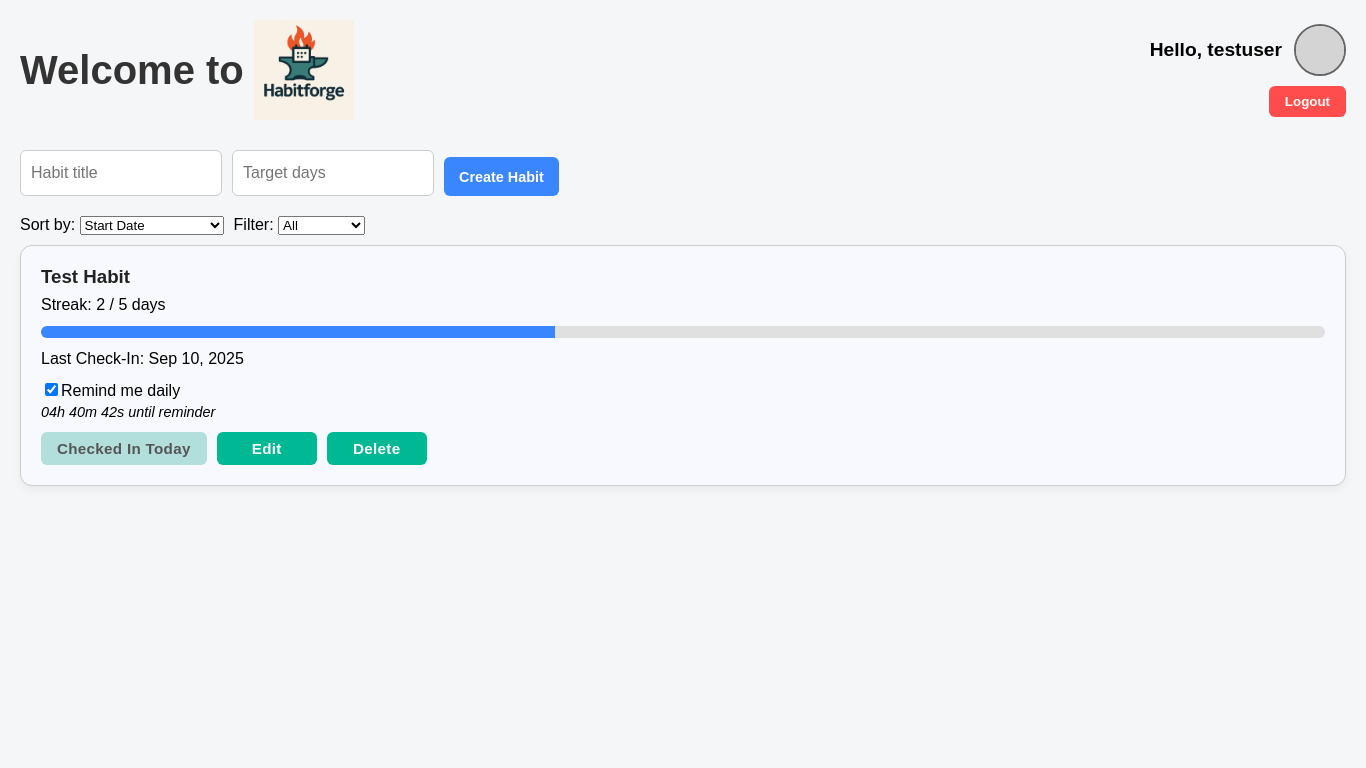
Test: Dashboard Component › opens and closes delete modal
Click the button "Delete".
click(377, 448)  # box 327,432 -> 427,465
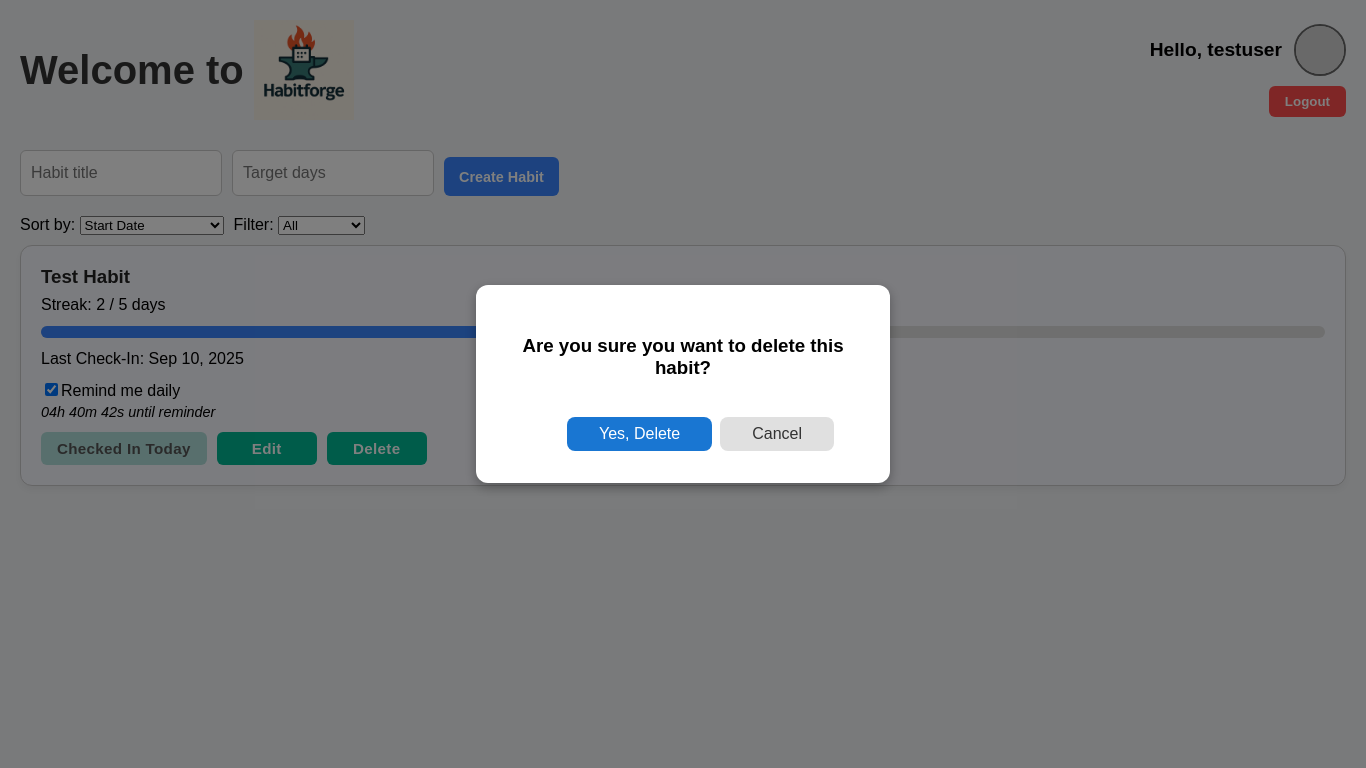
Expected: the heading "Are you sure you want to delete this habit?" is shown, 508,335 -> 858,379
Click the button "Cancel".
click(777, 434)  # box 720,417 -> 834,451
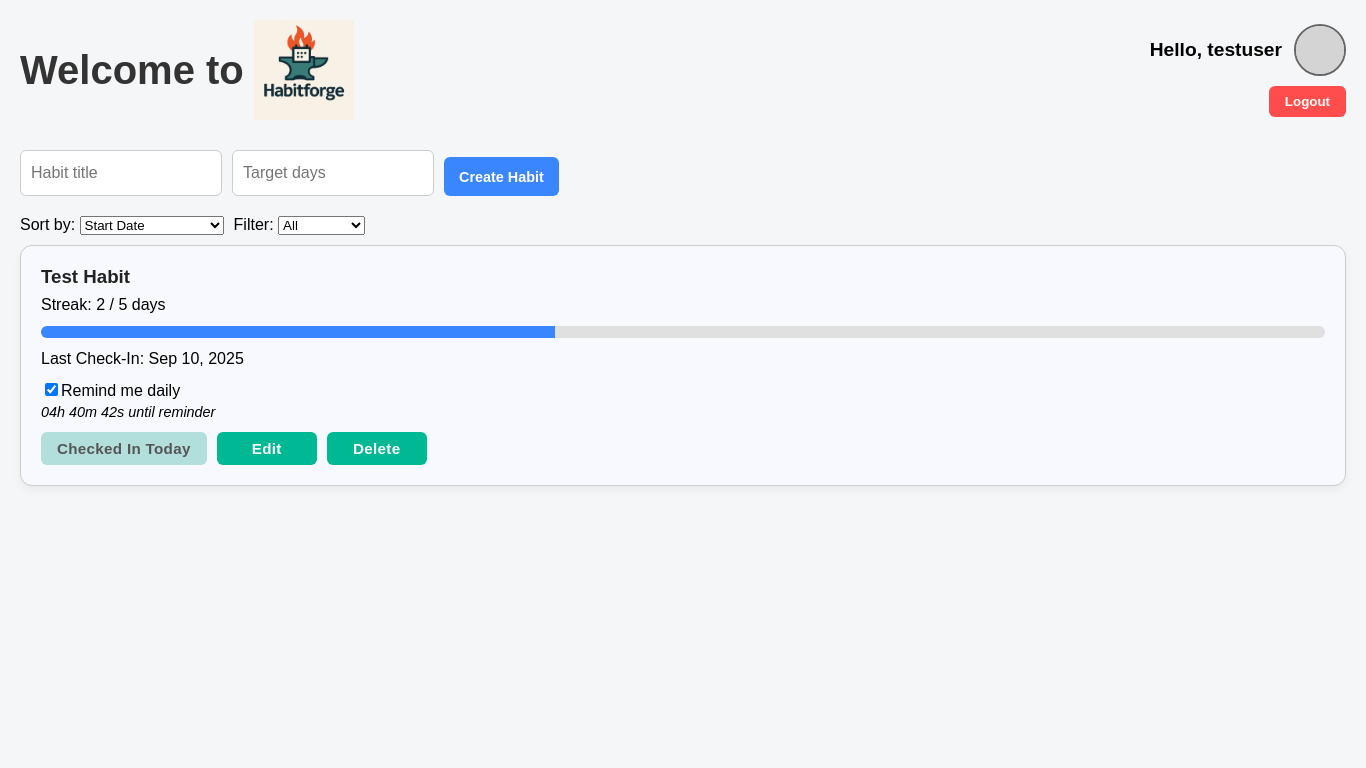
Expected: the heading "Are you sure you want to delete this habit?" is gone
